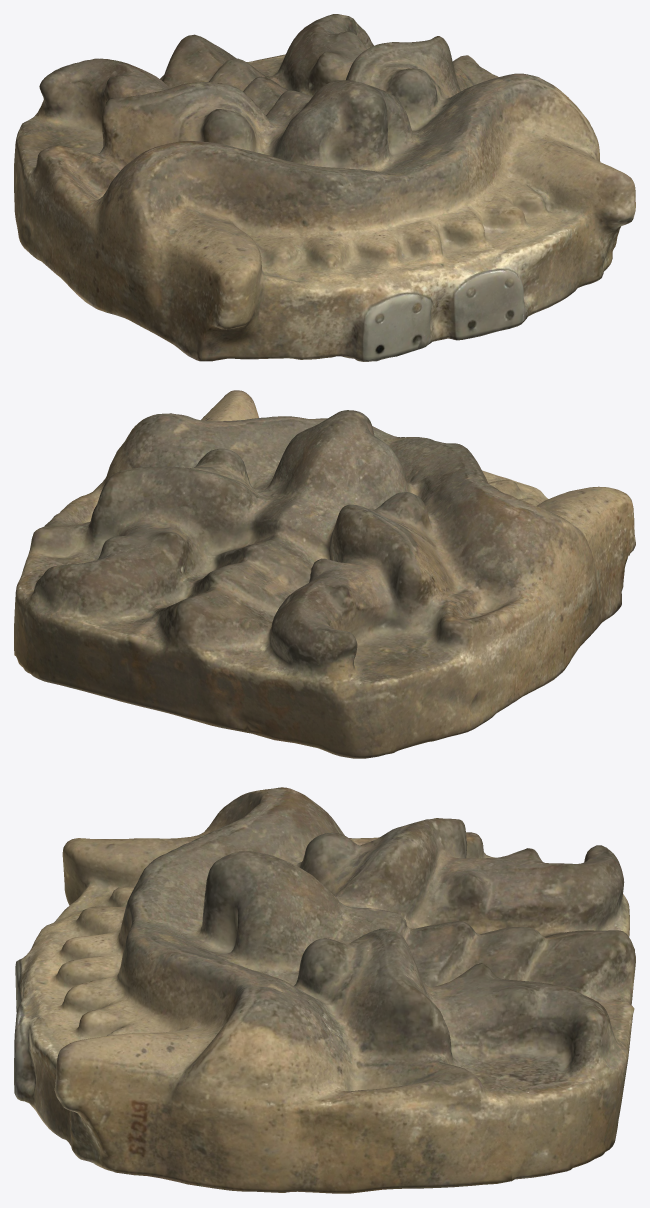
File: 28_makara_final.glb
3 views of the same model, one above another, from view 1: azimuth 30°, elevation 25°; view 2: azimuth 150°, elevation 25°; view 3: azimuth 270°, elevation 25° (orthographic). The views are drawn at different scales.
Size of the model in its own units: 0.2976 by 0.1122 by 0.297.
Materials: 1 (1 with a texture image).
